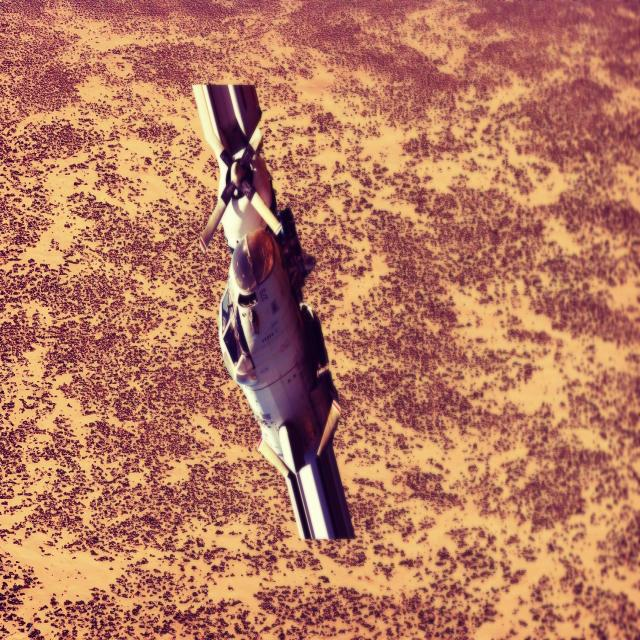airplane: (191, 81, 356, 542)
